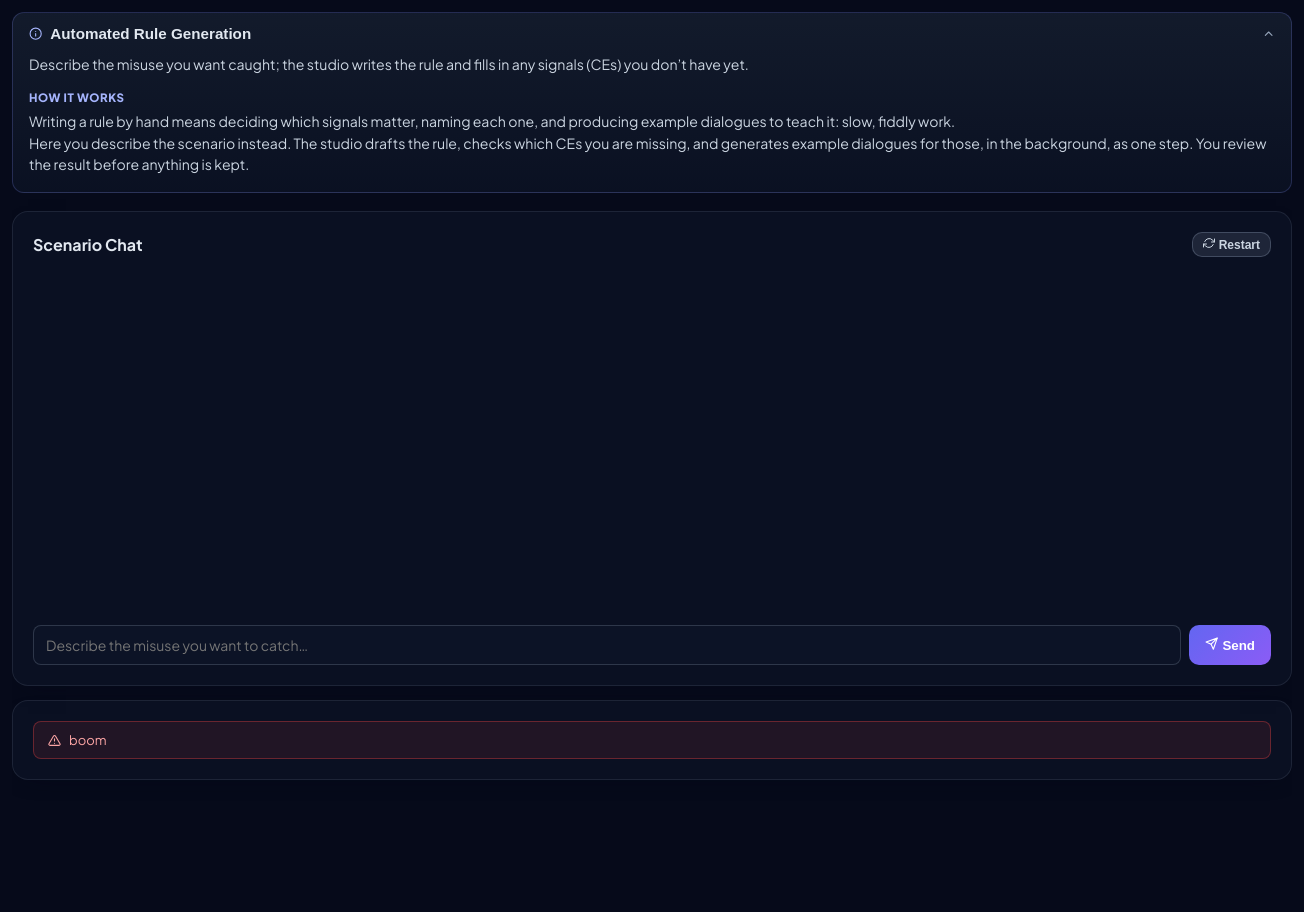
it: Step1Scenario — bootstrap › Restart clears a bootstrap error and starts a fresh session
Expected: the text "boom" is shown, [33,721,1271,759]
Note: Second attempt (via Restart) succeeds — banner goes away.
Click the button "Restart". click: (1232, 245)
box: [1192,232,1271,257]
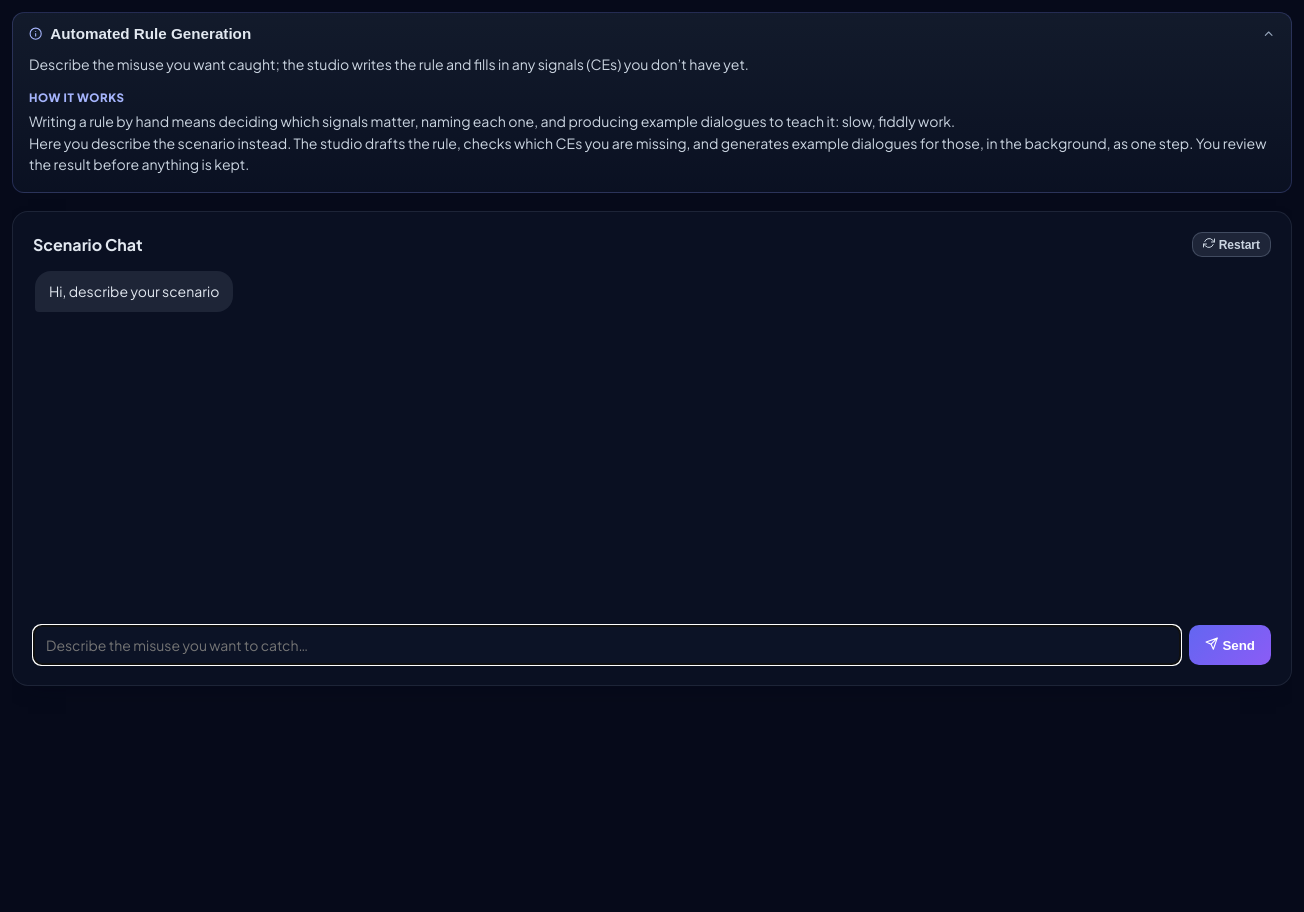
Now the text "Hi, describe your scenario" is shown, box [35,271,233,312]
Now the text "boom" is gone
